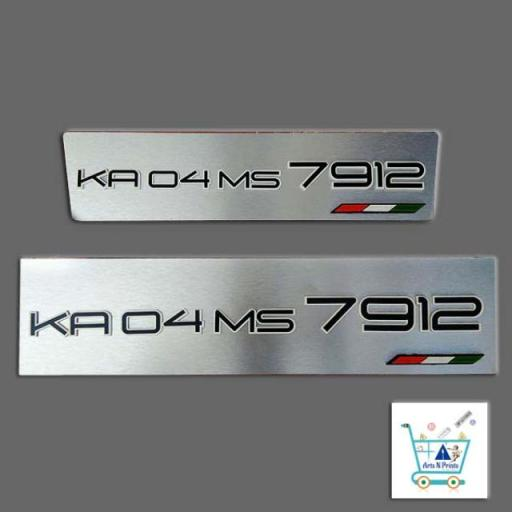number plate: (21, 259, 500, 374), (56, 126, 442, 228)
